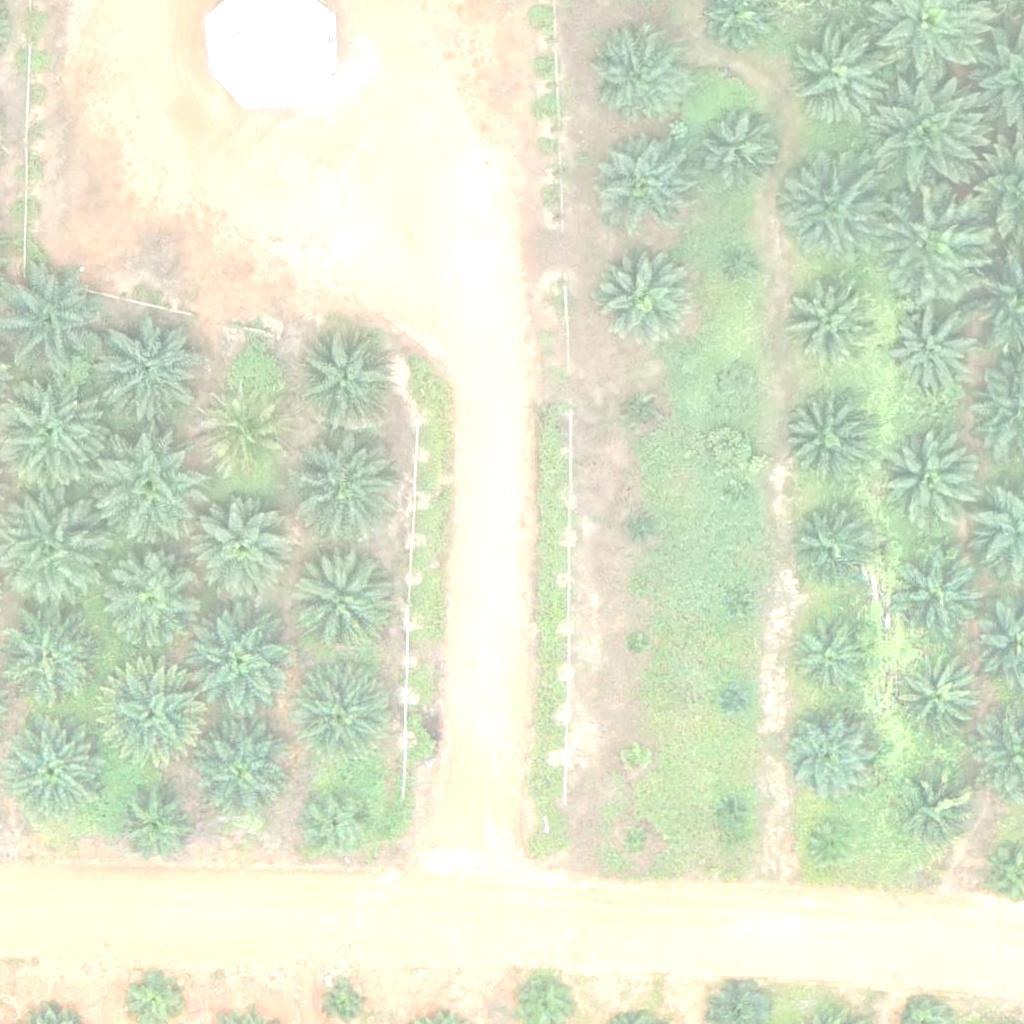Kelapa_Sawit: (773, 151, 886, 265), (97, 314, 210, 428), (95, 430, 208, 544), (184, 603, 297, 716), (873, 79, 985, 193), (876, 185, 988, 299), (97, 664, 209, 777), (773, 700, 885, 813), (292, 429, 404, 542), (586, 23, 686, 124), (879, 430, 979, 531), (887, 542, 987, 643), (594, 134, 694, 235), (592, 242, 692, 343), (294, 329, 394, 430), (191, 721, 291, 822), (4, 719, 104, 820), (791, 29, 891, 129), (289, 549, 389, 649), (294, 663, 394, 763), (195, 502, 295, 602), (101, 552, 201, 652), (791, 611, 879, 700), (788, 503, 876, 591), (897, 655, 985, 743), (200, 392, 288, 480), (889, 308, 976, 396), (789, 275, 876, 363), (782, 397, 869, 485), (695, 104, 782, 192), (300, 785, 375, 861), (904, 773, 979, 848), (118, 791, 193, 866), (720, 367, 758, 405), (813, 822, 851, 860), (328, 985, 365, 1023), (733, 252, 758, 277), (729, 482, 754, 507), (723, 598, 748, 623), (629, 402, 654, 427), (629, 515, 654, 540), (625, 633, 650, 658), (621, 745, 646, 770), (624, 829, 649, 854), (724, 687, 749, 712), (717, 797, 742, 822)
